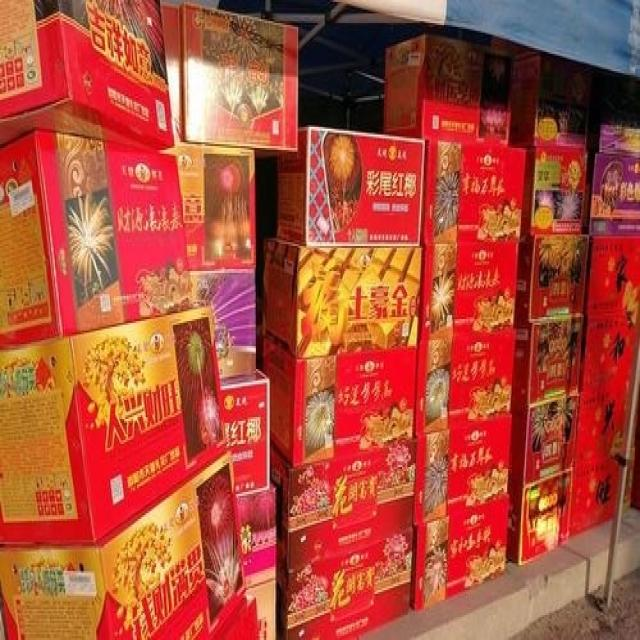box: (0, 306, 230, 550), (0, 448, 246, 640), (0, 131, 193, 350), (0, 0, 173, 154), (270, 436, 415, 580), (257, 336, 417, 465), (256, 236, 422, 357), (182, 4, 298, 160), (278, 129, 426, 246), (275, 529, 412, 640), (384, 35, 517, 148), (156, 142, 256, 271), (410, 492, 509, 617), (412, 413, 512, 530), (424, 140, 527, 244), (415, 329, 515, 436), (417, 240, 518, 344), (188, 269, 257, 379), (511, 313, 584, 407), (515, 234, 588, 325), (509, 398, 577, 492), (507, 469, 572, 567), (221, 369, 271, 496), (568, 448, 635, 542), (521, 150, 586, 236), (573, 390, 635, 475), (580, 148, 640, 233), (579, 313, 640, 394), (582, 233, 640, 315), (237, 488, 276, 586), (247, 577, 276, 640), (219, 596, 259, 640), (600, 125, 640, 158)
